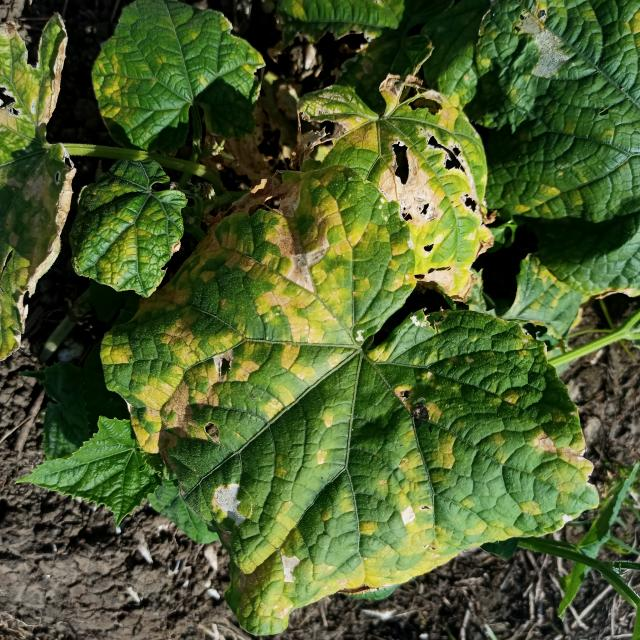disease_cucumber: (134, 108, 585, 618)
